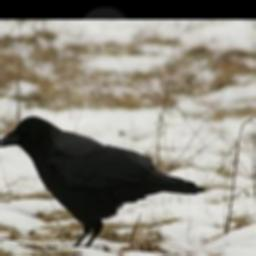Crow: (0, 107, 204, 250)
